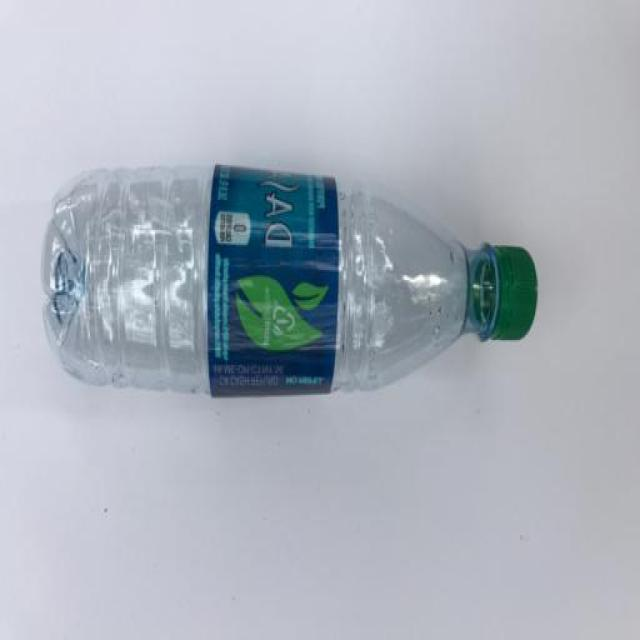non-organik: (31, 148, 570, 450)
